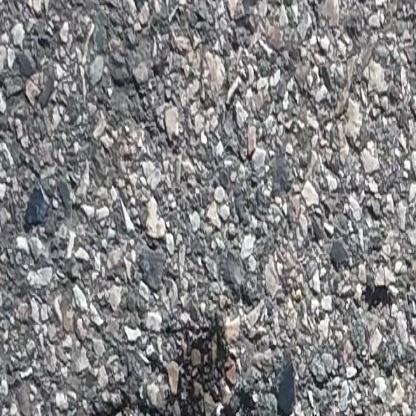Cracks: (0, 382, 416, 416)
